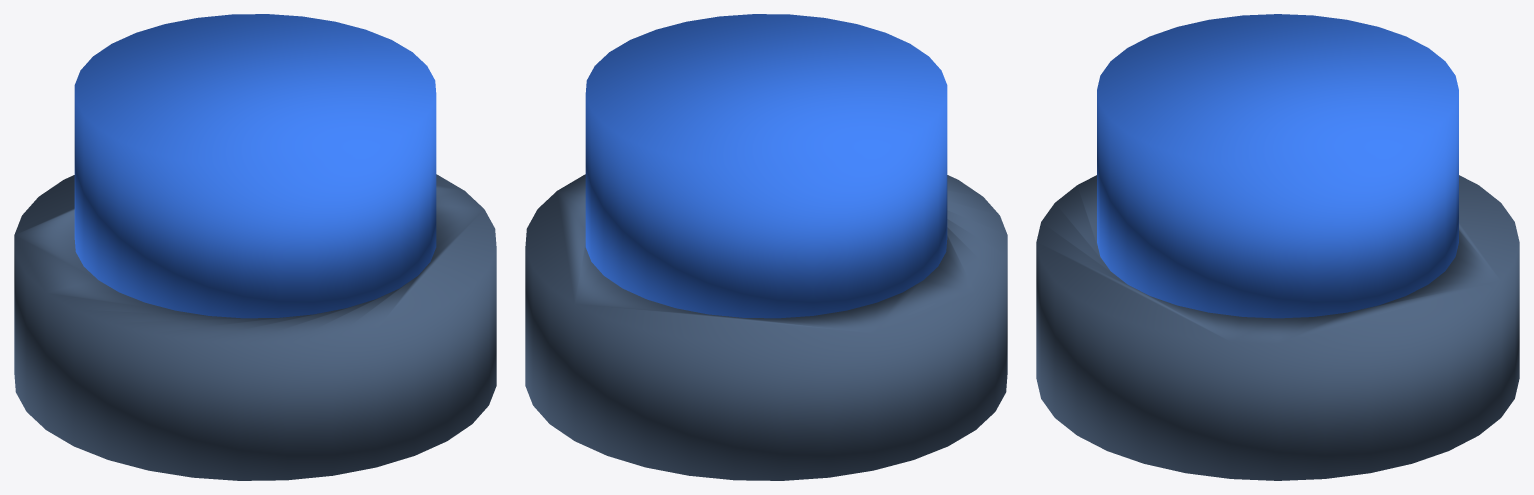
File: button.fbx
3 renders of one model, left to right at view 1: azimuth 30°, elevation 25°; view 2: azimuth 150°, elevation 25°; view 3: azimuth 270°, elevation 25°, orthographic.
Parts seen in each view (by area): view 1: Cylinder.001, Cylinder; view 2: Cylinder.001, Cylinder; view 3: Cylinder.001, Cylinder.
Part boxes in pixels (x1=…): Cylinder.001: x1=74, y1=14, x2=436, y2=318; Cylinder: x1=14, y1=174, x2=496, y2=480; Cylinder.001: x1=585, y1=14, x2=947, y2=318; Cylinder: x1=525, y1=174, x2=1007, y2=480; Cylinder.001: x1=1097, y1=14, x2=1458, y2=318; Cylinder: x1=1036, y1=175, x2=1519, y2=480.
Size of the model in its own units: 20 by 13.17 by 20.
